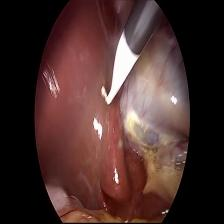Hook: (100, 28, 137, 112)
